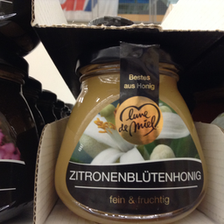honey: (51, 44, 211, 220)
